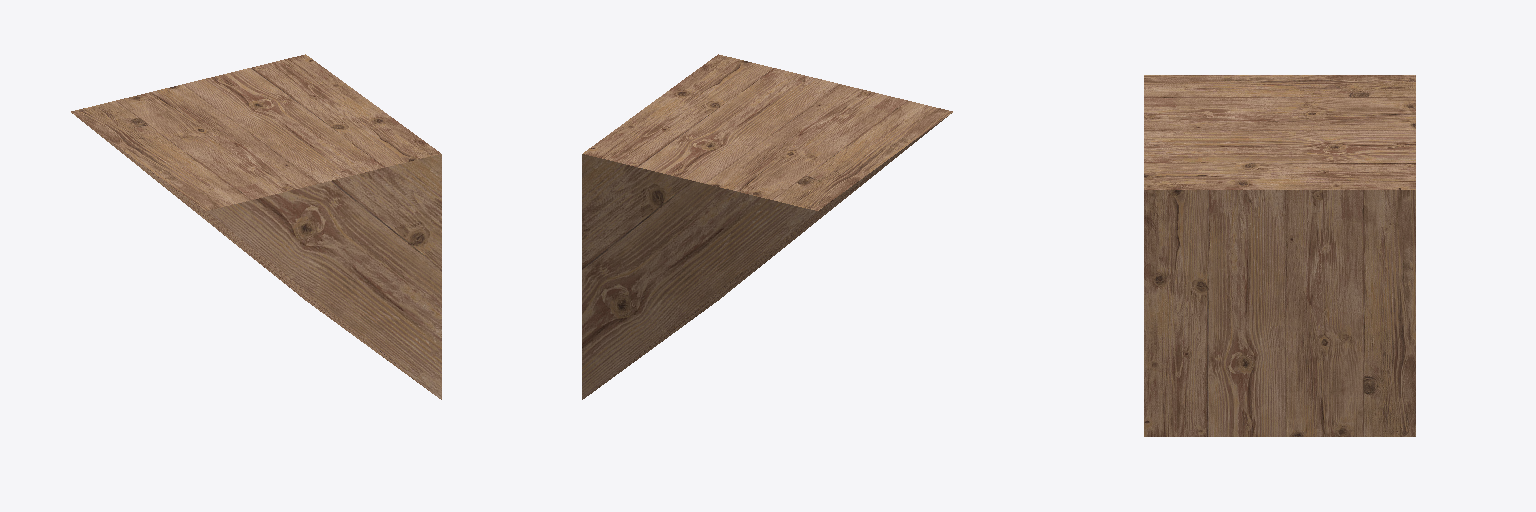
3 renders of one model, left to right at view 1: azimuth 30°, elevation 25°; view 2: azimuth 150°, elevation 25°; view 3: azimuth 270°, elevation 25°, orthographic.
Parts seen in each view (by area): view 1: Cube_Cube.001; view 2: Cube_Cube.001; view 3: Cube_Cube.001.
Boxes of the visible parts, x1,y1,x2,y2 form: Cube_Cube.001: [71, 54, 441, 399]; Cube_Cube.001: [582, 54, 952, 399]; Cube_Cube.001: [1144, 75, 1415, 436].
Bounding box in the file's own units: 1 × 1 × 1.
1 materials, 1 textured.